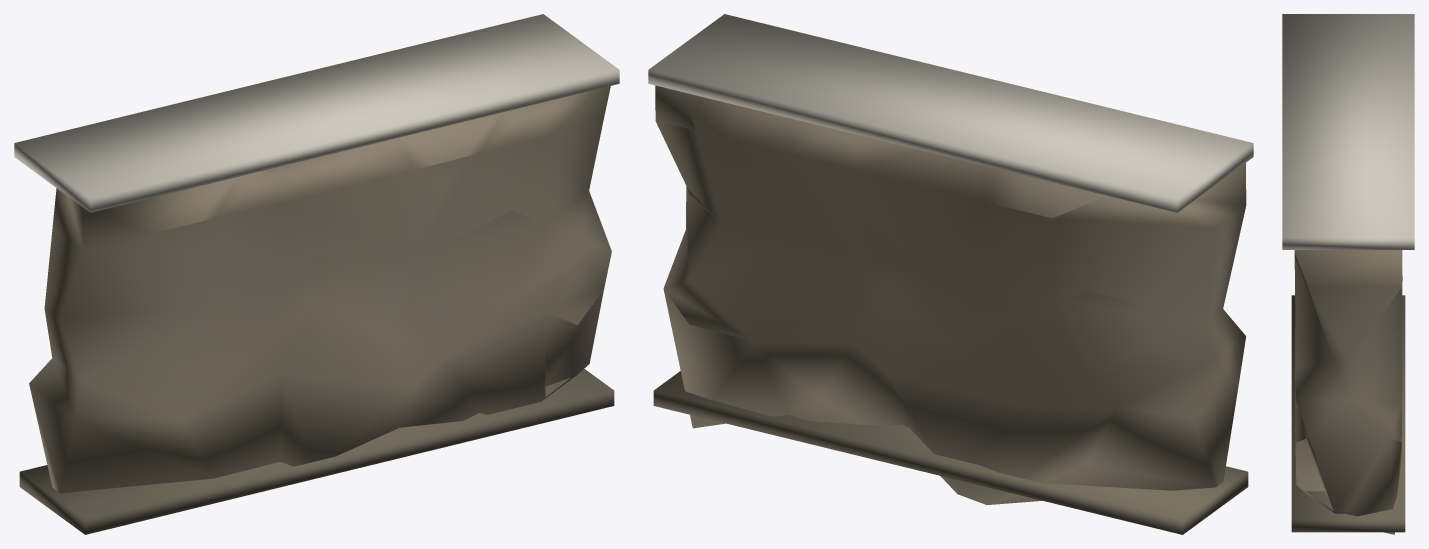
File: infra_city-wall.glb
3 renders of one model, left to right at view 1: azimuth 30°, elevation 25°; view 2: azimuth 150°, elevation 25°; view 3: azimuth 270°, elevation 25°, orthographic. The views are drawn at different scales.
Parts seen in each view (by area): view 1: stone, step, stone_dark; view 2: stone, step, stone_dark; view 3: step, stone, stone_dark.
Boxes of the visible parts, x1,y1,x2,y2 form: stone: (29, 86, 611, 493); step: (14, 14, 619, 212); stone_dark: (19, 368, 614, 534); stone: (655, 85, 1246, 504); step: (648, 14, 1253, 212); stone_dark: (653, 371, 1248, 534); step: (1282, 14, 1414, 249); stone: (1294, 249, 1402, 534); stone_dark: (1291, 295, 1405, 532).
Bounding box in the file's own units: 8 × 5.21 × 2.
